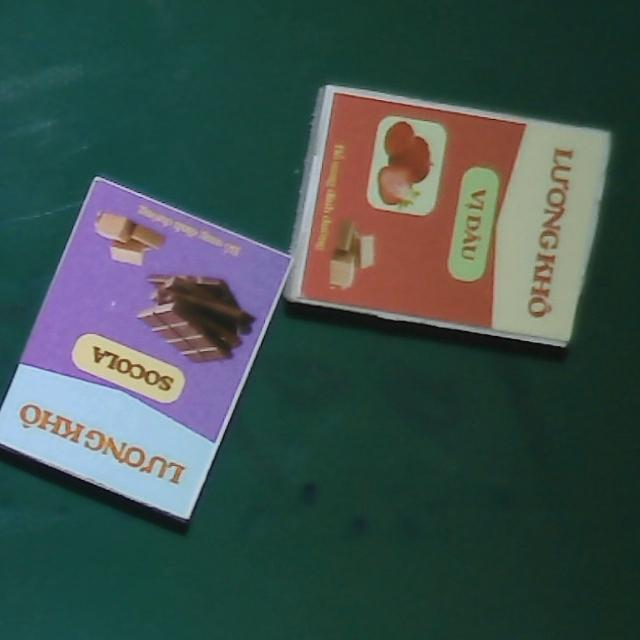dau: (282, 85, 612, 348)
socola: (0, 174, 296, 525)
